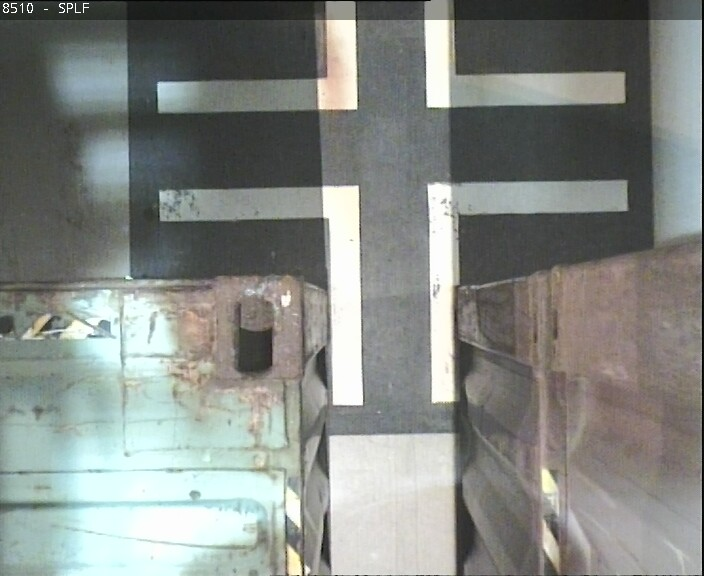groundmarker_1: (161, 177, 627, 403), (160, 1, 625, 113)
